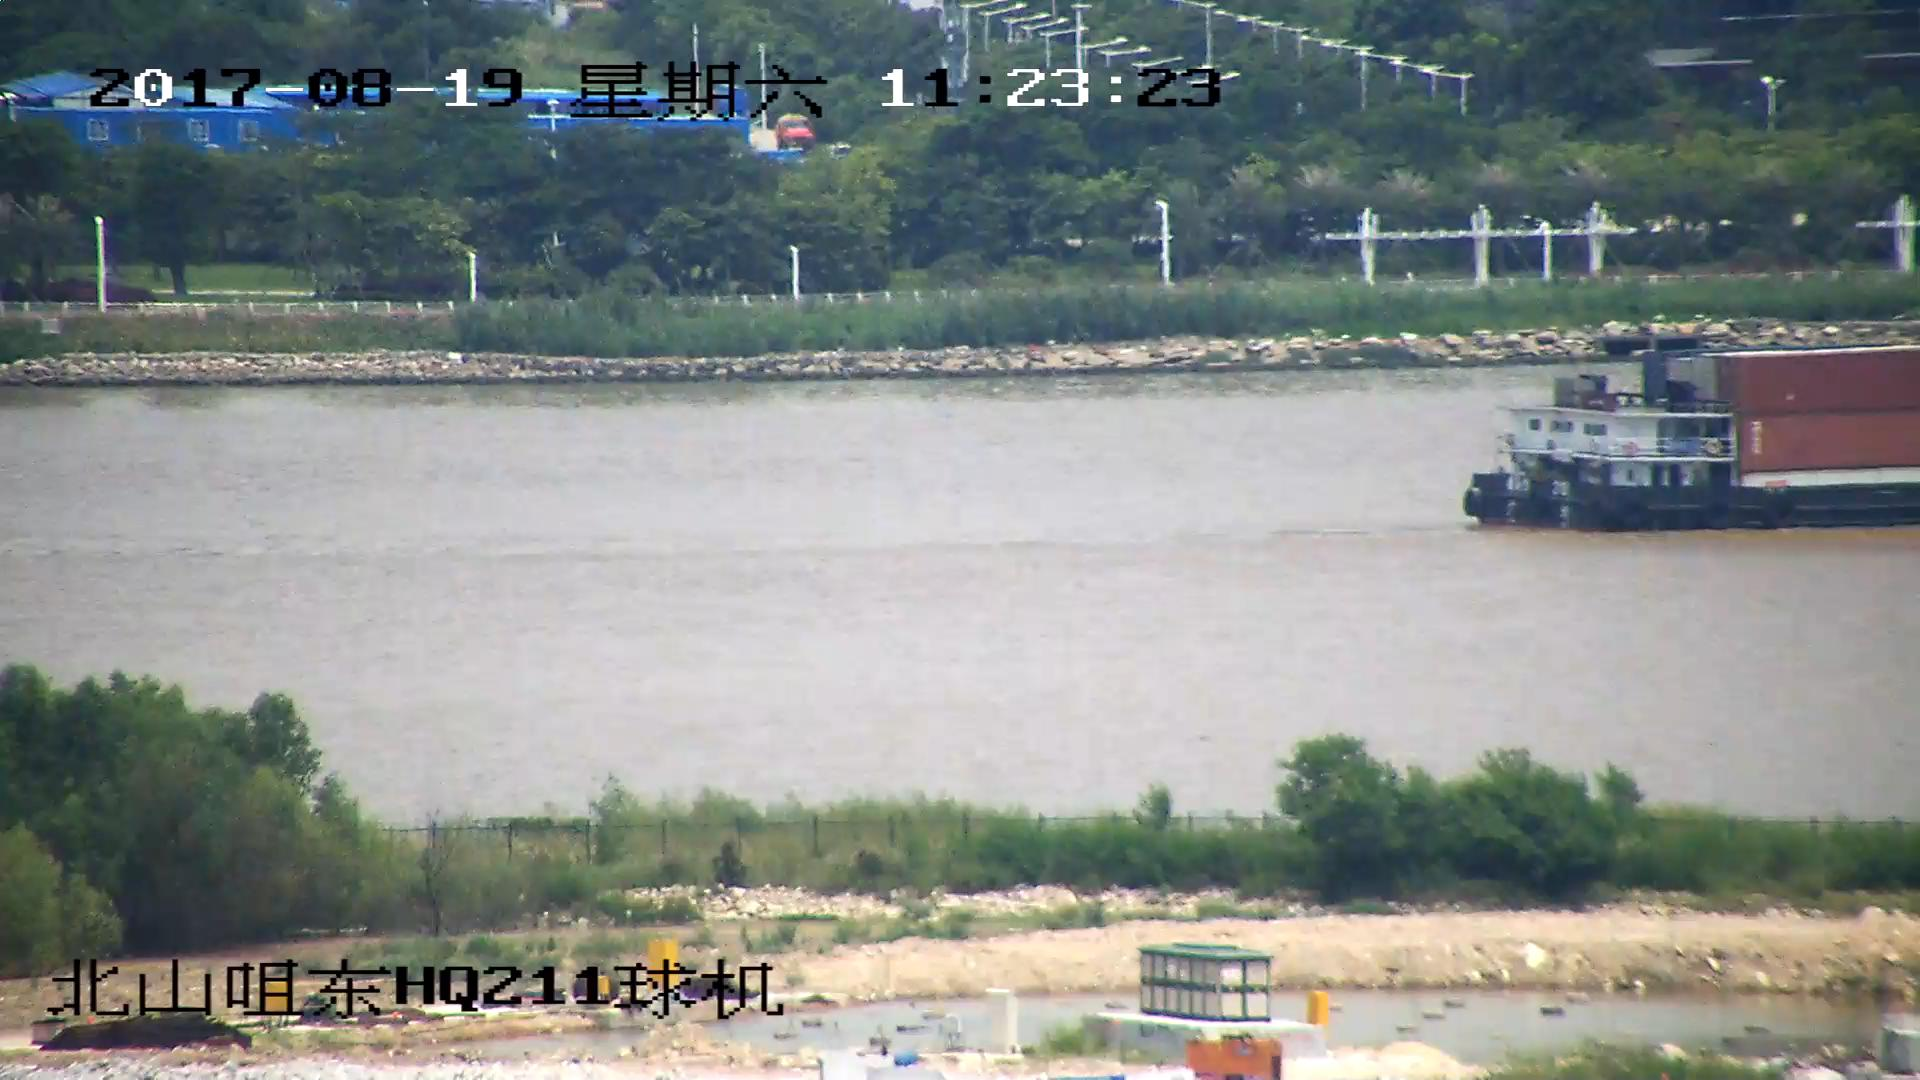container ship: (1456, 343, 1920, 533)
